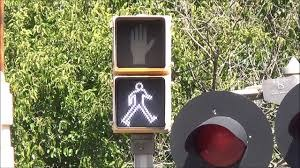pedestrian_walk: (114, 75, 172, 134)
